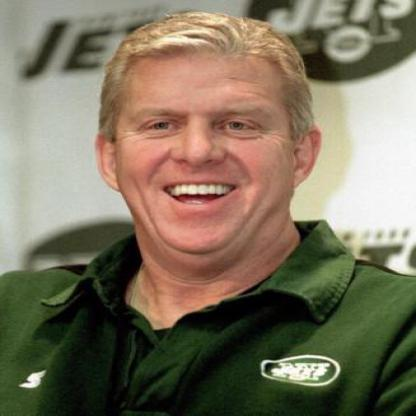face: (113, 19, 299, 256)
